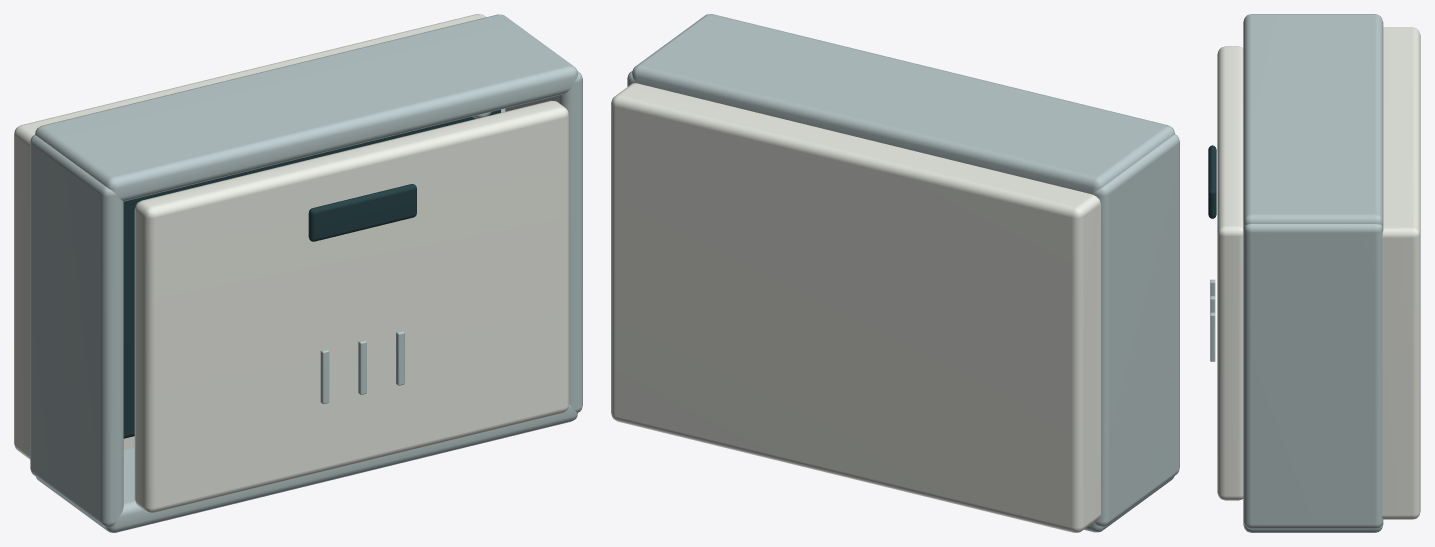
Rendered from service-cache.glb.
The picture shows the model from 3 angles, left to right: view 1: azimuth 30°, elevation 25°; view 2: azimuth 150°, elevation 25°; view 3: azimuth 270°, elevation 25°; orthographic projection. The views are drawn at different scales.
Parts seen in each view (by area): view 1: Maintenance panel, Lip frame.001, Side frame, Backplate, Lip frame, Side frame.001, Recess liner, Clasp shadow; view 2: Backplate, Lip frame.001, Side frame; view 3: Side frame.001, Lip frame.001, Backplate, Maintenance panel, Clasp shadow, Lip frame, Inspection witness.002.
Boxes of the visible parts, x1,y1,x2,y2 form: Maintenance panel: [134, 100, 569, 512]; Lip frame.001: [35, 14, 578, 201]; Side frame: [30, 135, 123, 527]; Backplate: [14, 14, 505, 459]; Lip frame: [36, 404, 577, 532]; Side frame.001: [505, 71, 582, 412]; Recess liner: [123, 109, 500, 438]; Clasp shadow: [308, 184, 416, 241]; Backplate: [611, 83, 1100, 532]; Lip frame.001: [632, 14, 1174, 194]; Side frame: [1093, 134, 1179, 526]; Side frame.001: [1243, 224, 1383, 529]; Lip frame.001: [1243, 14, 1383, 226]; Backplate: [1382, 27, 1420, 519]; Maintenance panel: [1217, 46, 1243, 500]; Clasp shadow: [1208, 145, 1216, 218]; Lip frame: [1243, 521, 1383, 532]; Inspection witness.002: [1210, 312, 1215, 361].
Size of the model in its own units: 1.53 by 1.08 by 0.6525.
